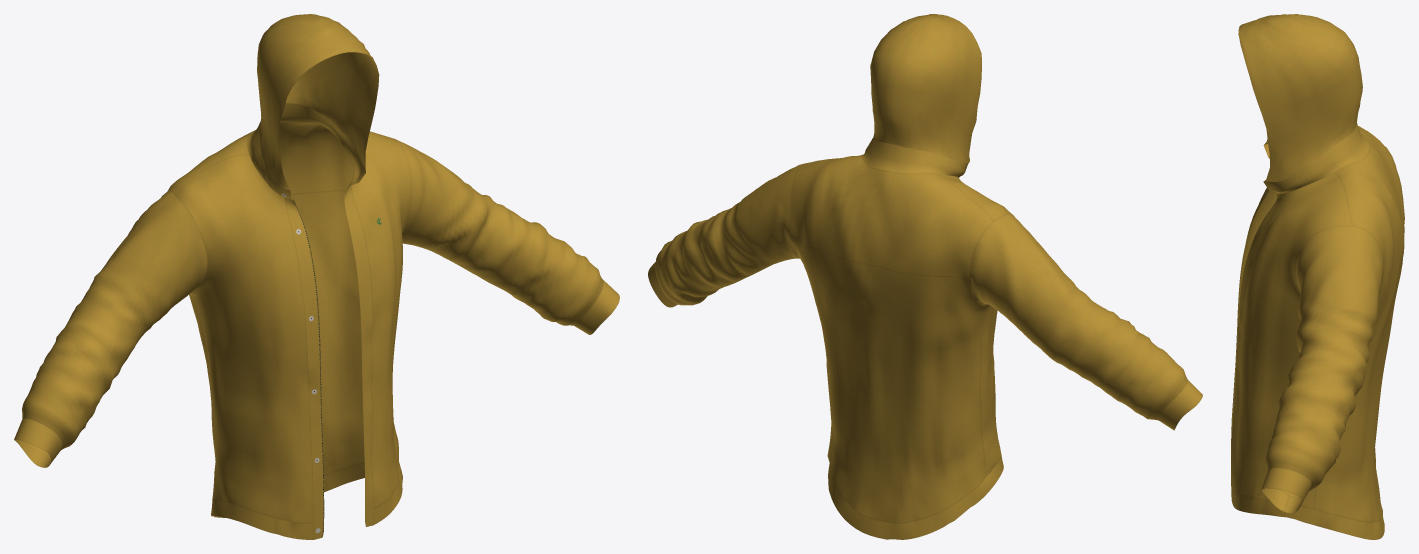
The model's file is jacket.glb.
3 views of the same model, side by side, from view 1: azimuth 30°, elevation 25°; view 2: azimuth 150°, elevation 25°; view 3: azimuth 270°, elevation 25° (orthographic). The views are drawn at different scales.
Visible parts, largest first — view 1: Criquet Rain Jacket; view 2: Criquet Rain Jacket; view 3: Criquet Rain Jacket.
Part boxes in pixels (box(x1,y1,x2,y2)): Criquet Rain Jacket: box(14, 14, 619, 539); Criquet Rain Jacket: box(648, 14, 1202, 539); Criquet Rain Jacket: box(1231, 14, 1404, 539).
Size of the model in its own units: 135 by 114 by 35.11.
1 material, 1 textured.
